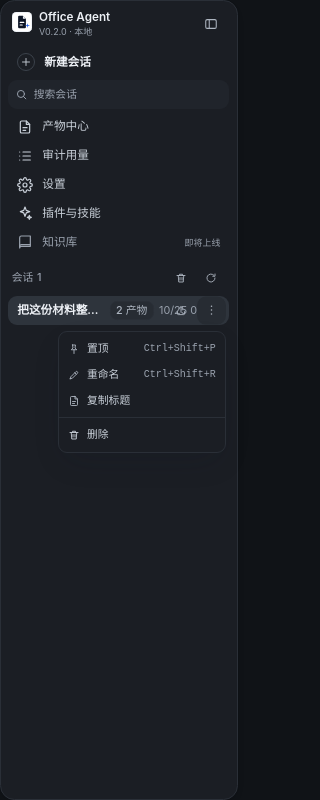
it: 最近会话：快捷键与菜单 › 鼠标走菜单「删除」仍要确认一次（确认态只有 ✓ / ✕ 两个图标）
Earlier steps of the test are not shown.
Later steps or results of the test are not shown.
Click the menu item "删除".
click(142, 435)  # box [59,422,225,448]
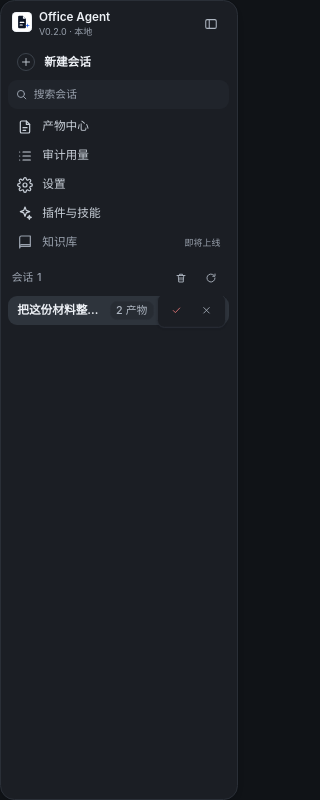
Check: the button named "确认删除会话" is shown, box [162,296,191,325]
Check: the button named "取消删除" is shown, box [192,296,221,325]
